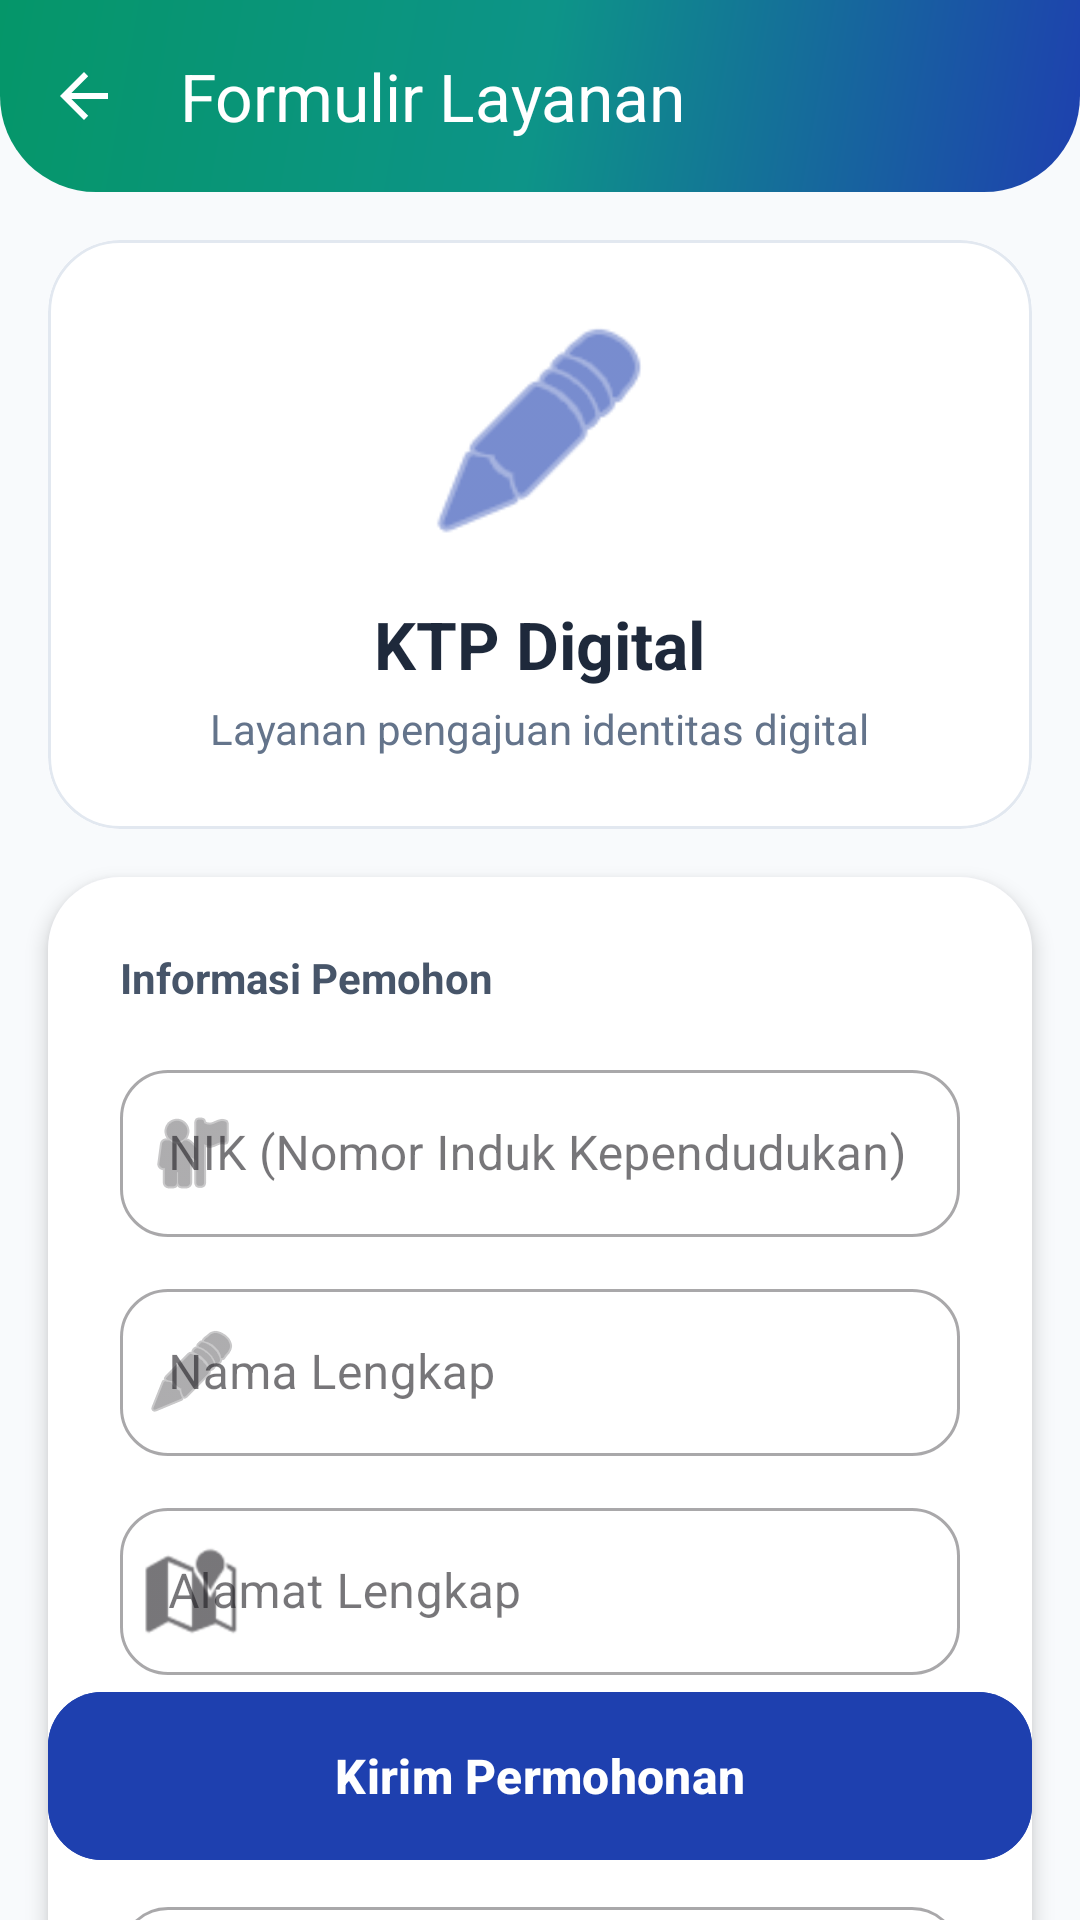

Where to tap for icons on this 1080x1920 app screen, as [x,y]:
edit: [539,430]
